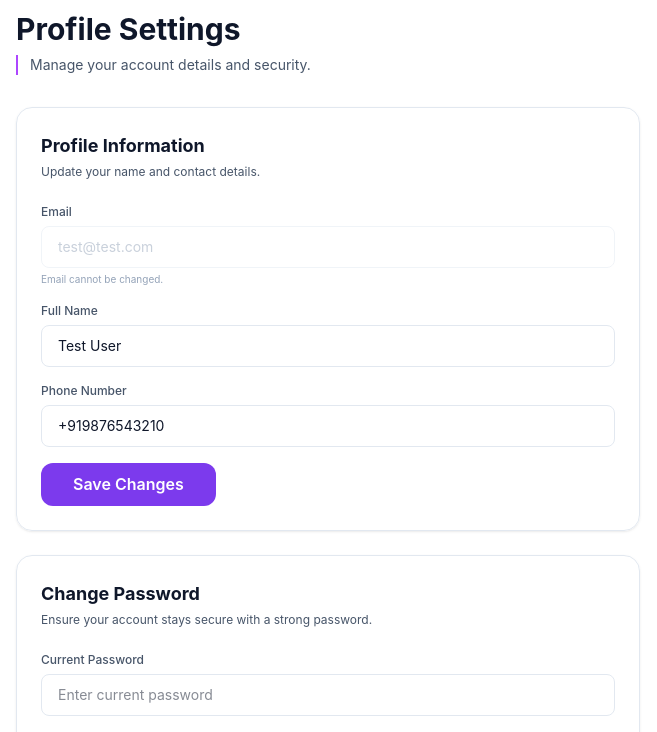
Test: ProfilePage (Settings) › shows success message on profile update
This screenshot has width=657, height=732.
Click the button "Save Changes" at (128, 484), box [41, 463, 216, 506]
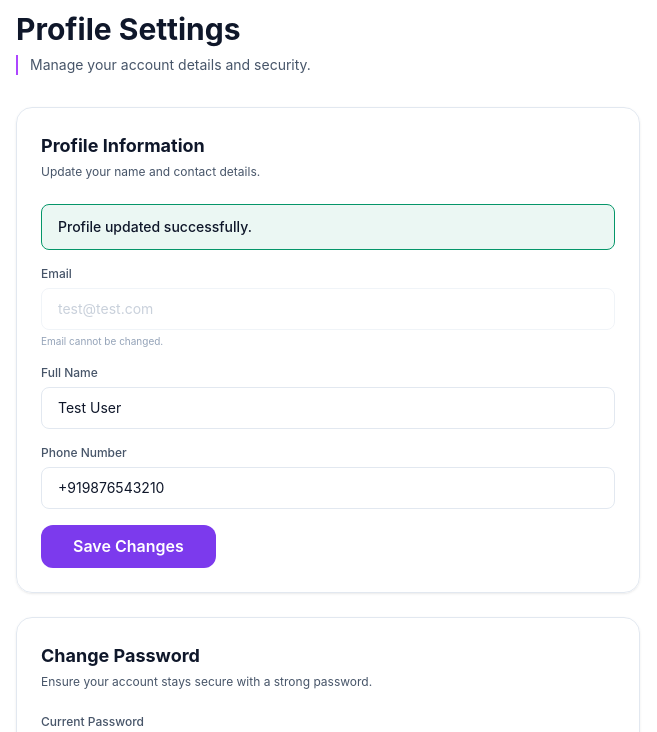
Expected: the text "Profile updated successfully." is shown, [41, 204, 615, 250]
